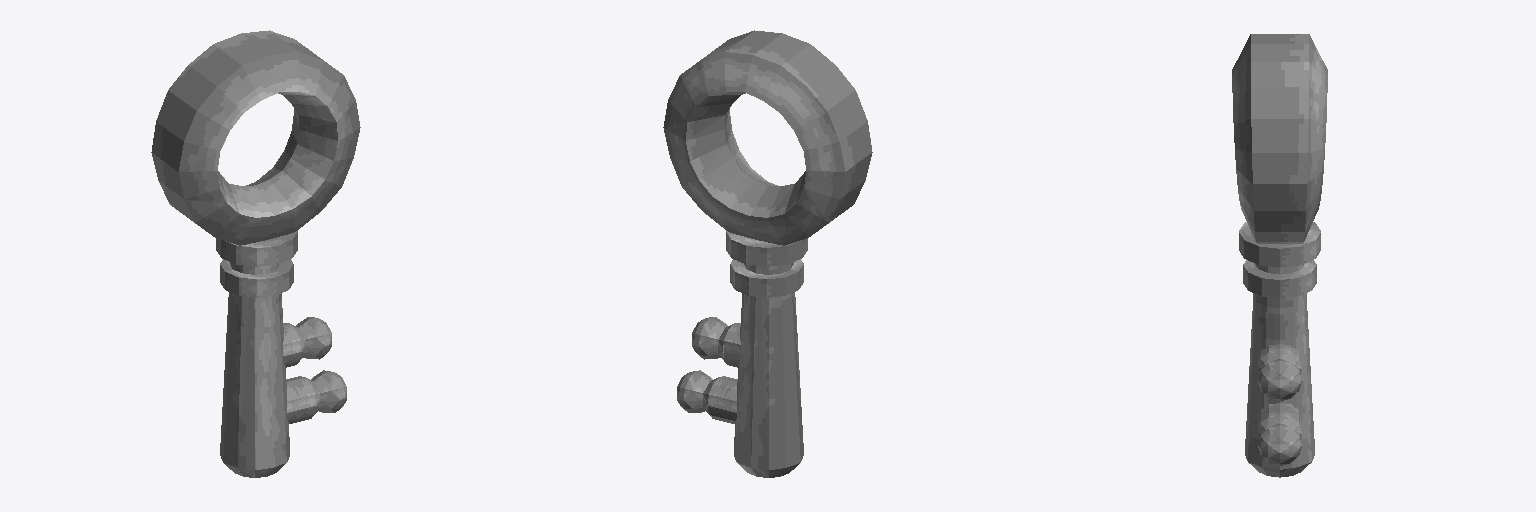
3 renders of one model, left to right at view 1: azimuth 30°, elevation 25°; view 2: azimuth 150°, elevation 25°; view 3: azimuth 270°, elevation 25°, orthographic.
Visible parts, largest first — view 1: key; view 2: key; view 3: key.
Boxes of the visible parts, <box> form: key: <box>151,30,360,477</box>; key: <box>663,30,872,477</box>; key: <box>1232,34,1327,477</box>.
Size of the model in its own units: 14.89 by 33.11 by 6.75.
Materials: 1 (1 with a texture image).